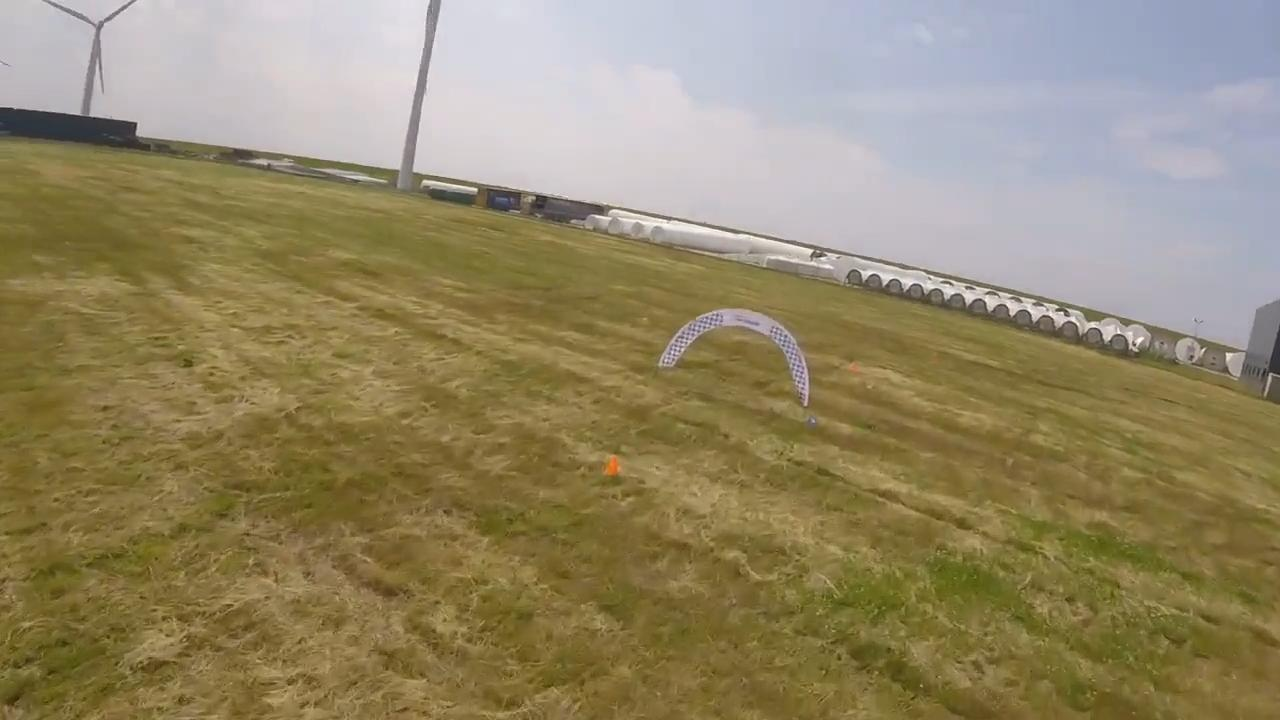gate: (657, 308, 809, 404)
